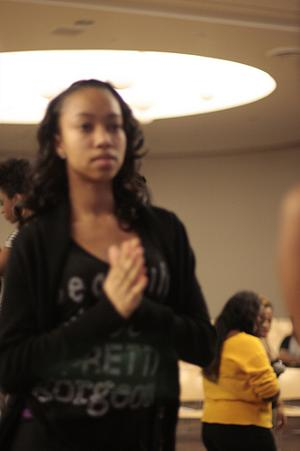person: (2, 78, 219, 451)
